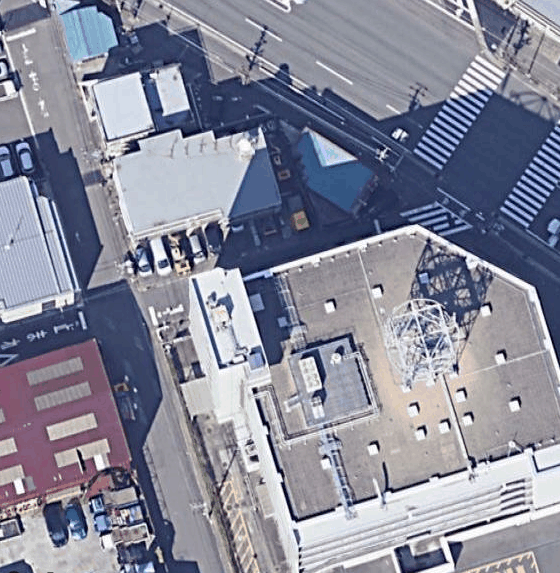facility: (190, 196, 559, 521)
flatroof: (103, 106, 289, 248)
